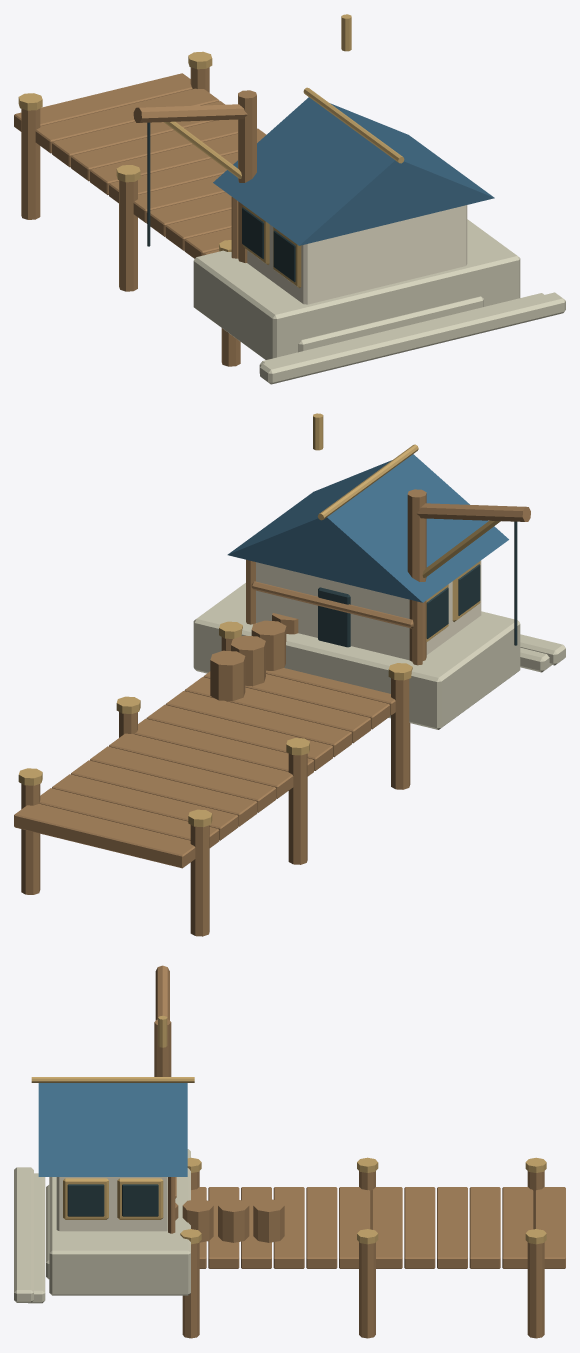
The model's file is level_17.glb.
3 views of the same model, one above another, from view 1: azimuth 30°, elevation 25°; view 2: azimuth 150°, elevation 25°; view 3: azimuth 270°, elevation 25° (orthographic). The views are drawn at different scales.
Visible parts, largest first — view 1: fishing_wharf — level 17; view 2: fishing_wharf — level 17; view 3: fishing_wharf — level 17.
Boxes of the visible parts, box(x1,y1,x2,y2) form: fishing_wharf — level 17: box(14, 14, 565, 384); fishing_wharf — level 17: box(14, 413, 565, 936); fishing_wharf — level 17: box(14, 965, 565, 1338).
Bounding box in the file's own units: 4.84 × 4.48 × 7.79.
